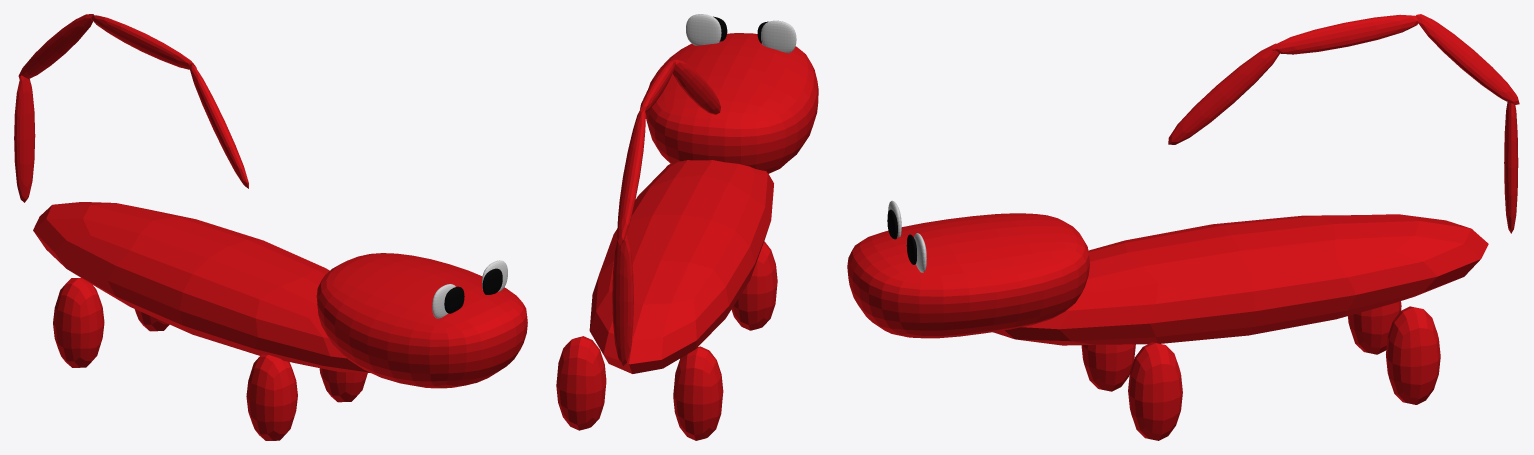
The model's file is scorpião.fbx.
The picture shows the model from 3 angles, left to right: view 1: azimuth 30°, elevation 25°; view 2: azimuth 150°, elevation 25°; view 3: azimuth 270°, elevation 25°; orthographic projection. The views are drawn at different scales.
Parts seen in each view (by area): view 1: Cube.004; view 2: Cube.004; view 3: Cube.004.
Part boxes in pixels (x1,y1,x2,y2): Cube.004: (14, 14, 527, 440); Cube.004: (556, 14, 818, 440); Cube.004: (847, 14, 1519, 440).
Size of the model in its own units: 3.52 by 4.43 by 7.53.
